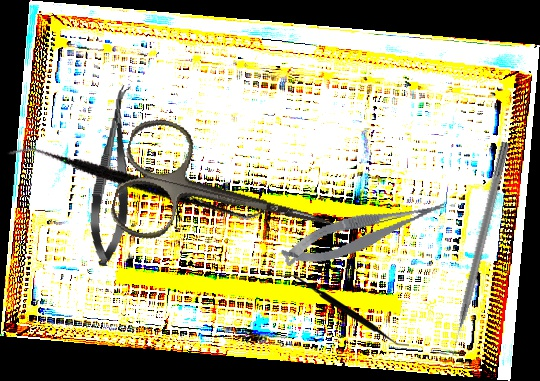Iris Scissors: (105, 110, 349, 286)
Micro Scissor: (275, 193, 455, 273), (85, 83, 141, 268)
Pusher: (444, 140, 511, 362)
Spatula Surgical: (6, 83, 272, 279), (281, 275, 409, 347)
